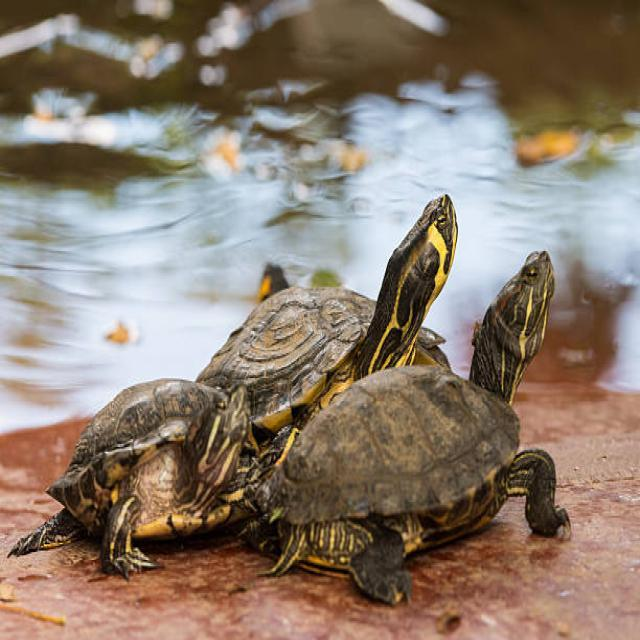tortoise: (262, 249, 568, 595)
